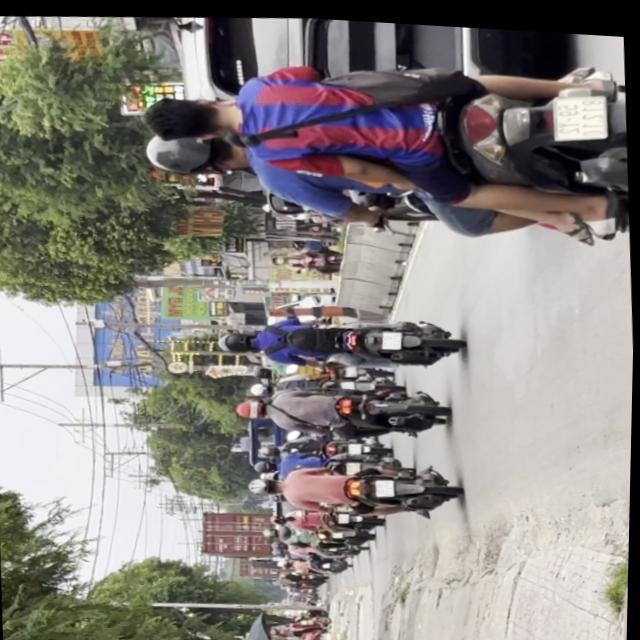helmet: (142, 124, 247, 178), (216, 326, 258, 352), (234, 393, 273, 417), (248, 472, 287, 496)
licenseplate: (136, 30, 634, 260), (215, 299, 465, 377), (246, 449, 470, 527), (233, 373, 458, 445)
motorcyclist: (140, 87, 235, 143)
nohelmet: (550, 85, 607, 135), (374, 475, 396, 493), (381, 327, 402, 344)
